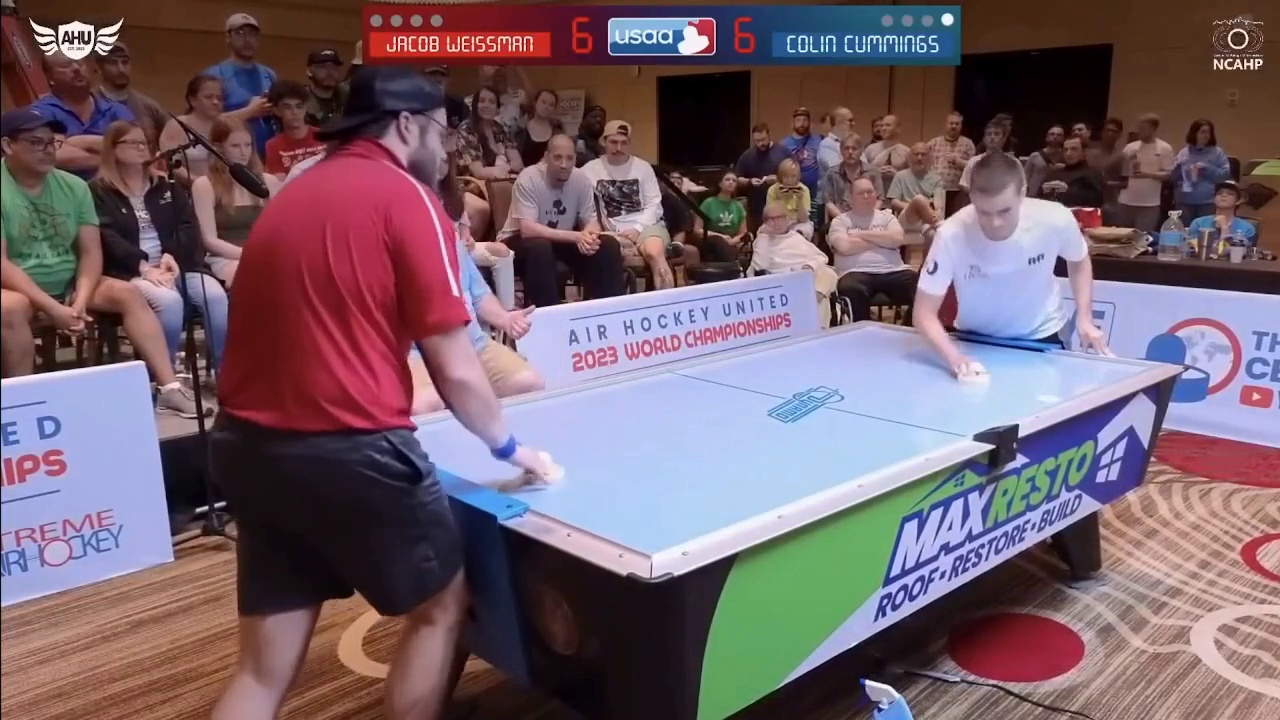player: (525, 443, 566, 486), (952, 359, 994, 383)
puck: (1036, 390, 1062, 404)
table: (347, 316, 1206, 582)
